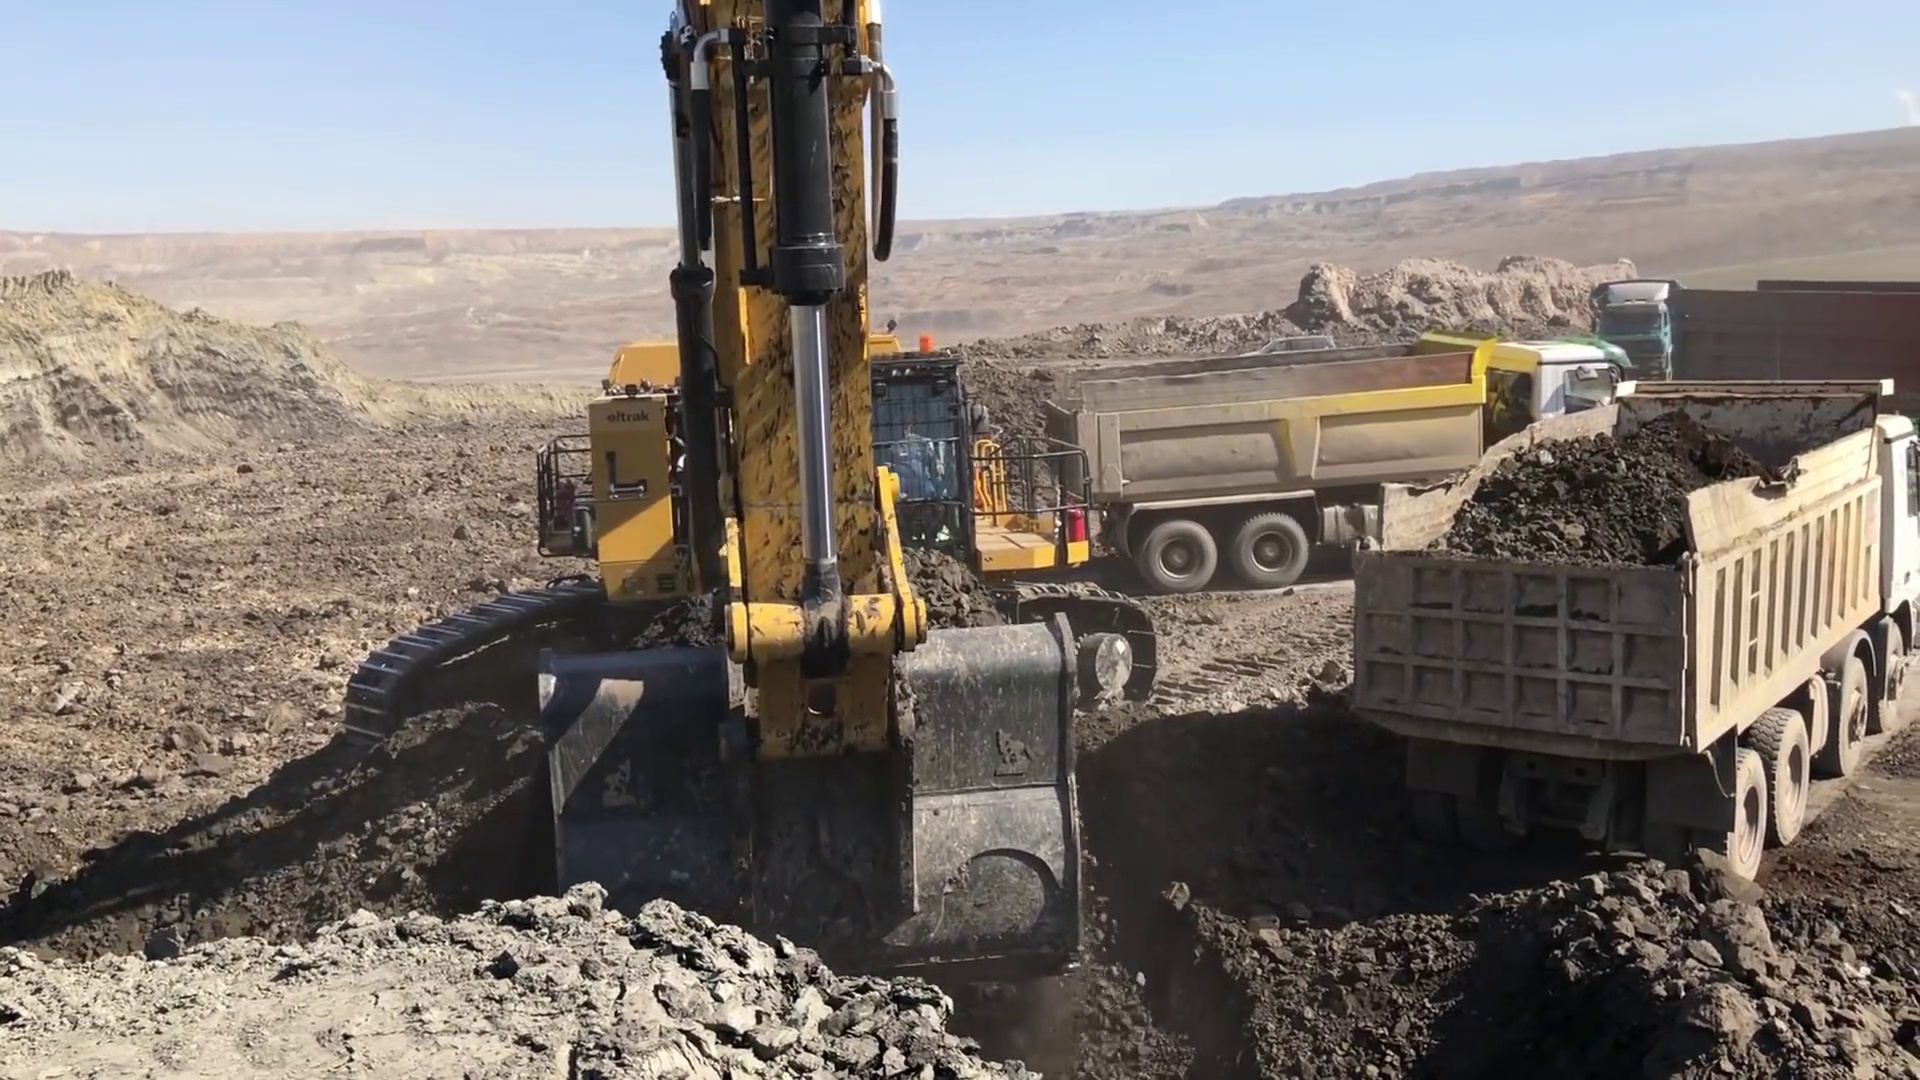excavator: (338, 9, 1114, 978)
truck: (1346, 375, 1919, 887), (1059, 343, 1630, 585), (1592, 260, 1669, 414)
